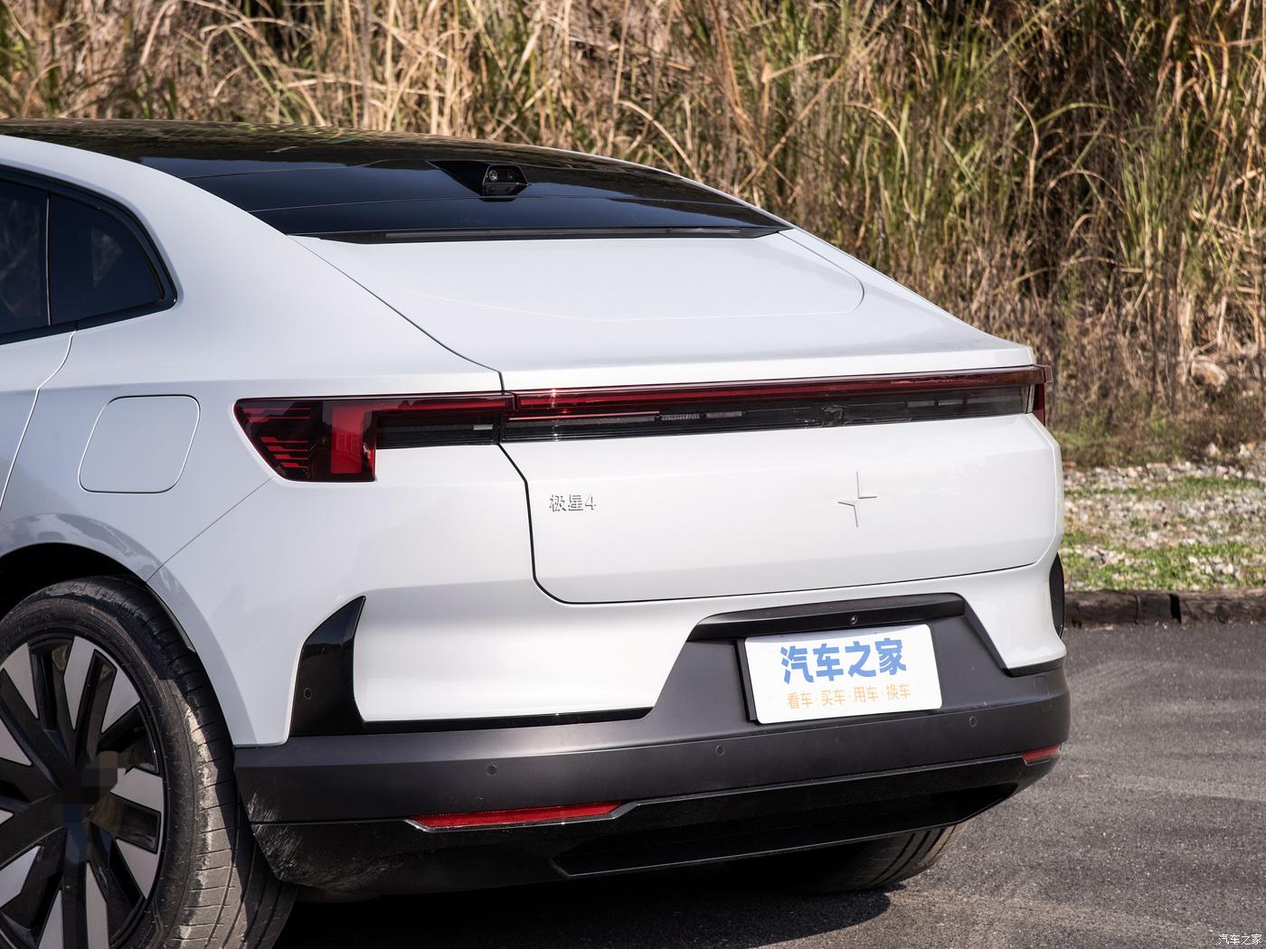Polestar: (838, 471, 877, 528)
